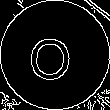O_N: (32, 28, 78, 82)
